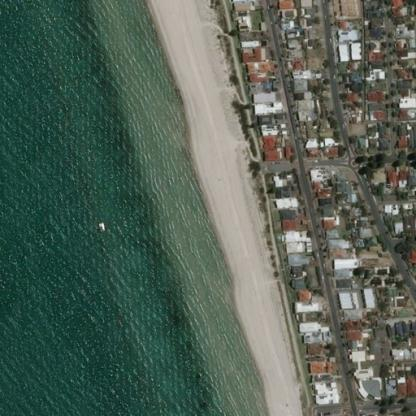ship: (93, 216, 109, 235)
